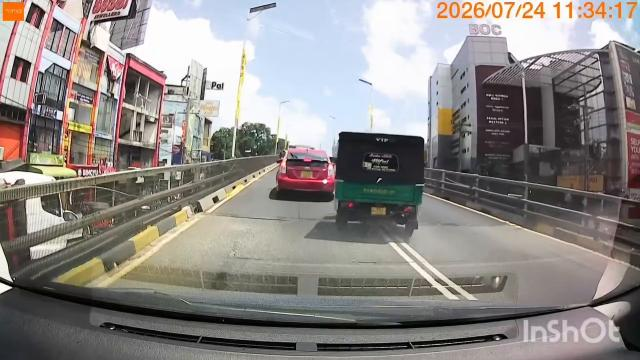illegal overtaking: (331, 125, 431, 242)
